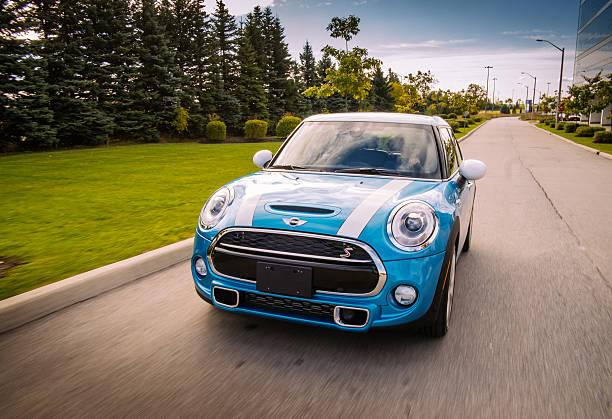mini: (278, 209, 310, 234)
